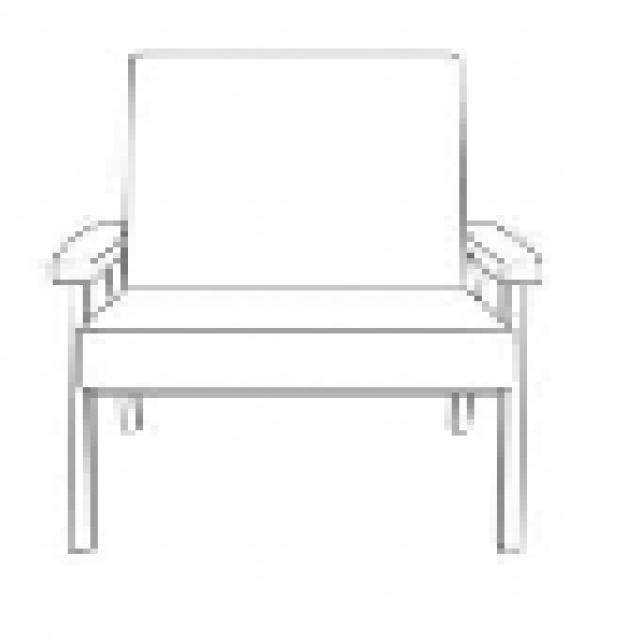Armrest: (456, 217, 547, 290), (46, 218, 130, 290)
Backrest: (123, 46, 471, 291)
Leg_Structure: (62, 382, 535, 558)
Seat: (59, 273, 539, 404)
